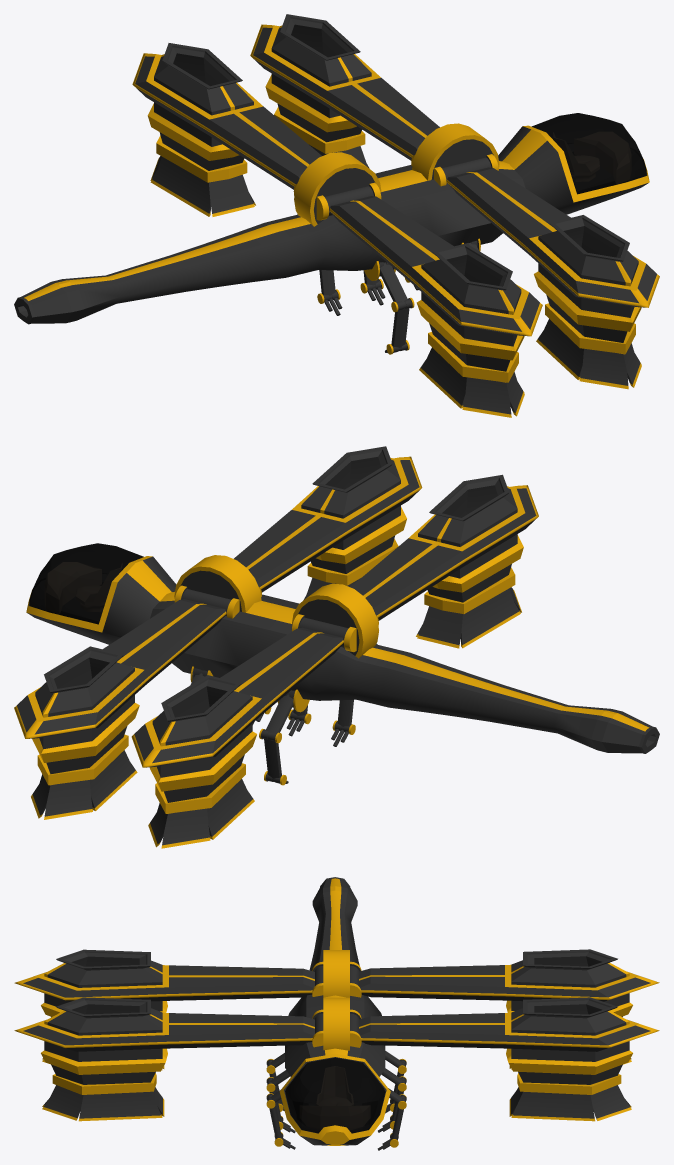
The model's file is VTOL SNAPSHOT.fbx.
3 views of the same model, one above another, from view 1: azimuth 30°, elevation 25°; view 2: azimuth 150°, elevation 25°; view 3: azimuth 270°, elevation 25° (orthographic). The views are drawn at different scales.
Parts seen in each view (by area): view 1: polySurface90; view 2: polySurface90; view 3: polySurface90.
Part boxes in pixels (x1,y1,x2,y2): polySurface90: [14, 14, 659, 417]; polySurface90: [14, 446, 659, 848]; polySurface90: [14, 877, 659, 1150].
Size of the model in its own units: 7604 by 2150 by 8284.
